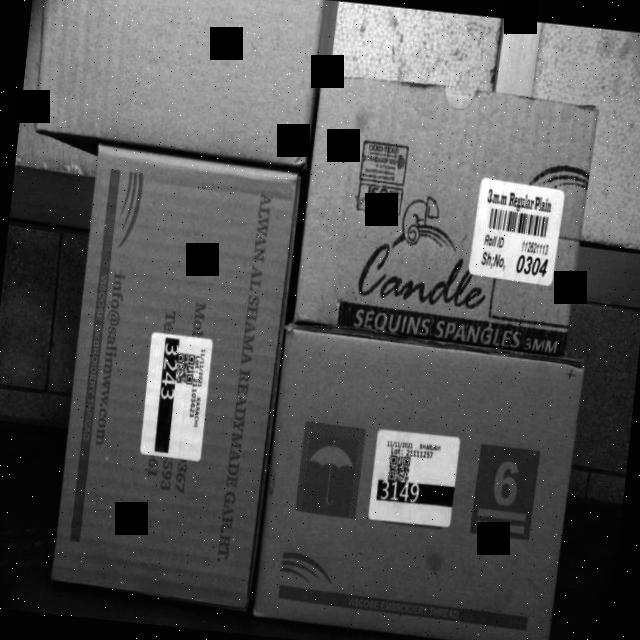box: (54, 142, 294, 608), (257, 327, 579, 640), (294, 76, 594, 350), (31, 0, 324, 157)
